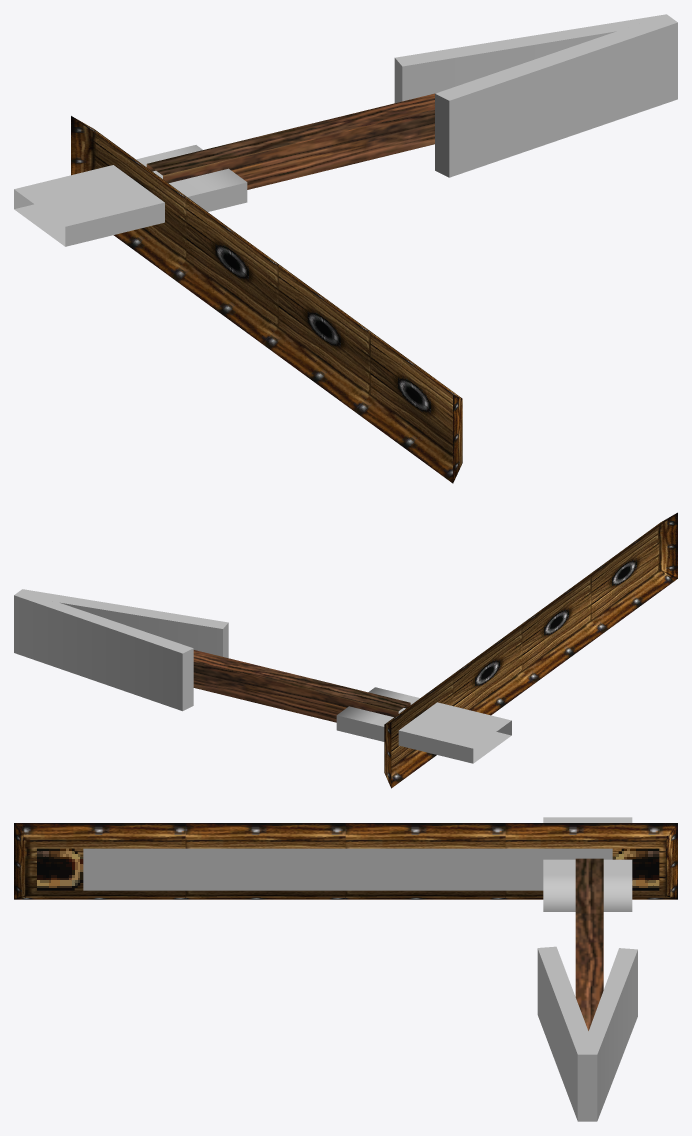
The model's file is INST_WH2_SLIDE_DAMAGE.obj.
The picture shows the model from 3 angles, top to bottom: view 1: azimuth 30°, elevation 25°; view 2: azimuth 150°, elevation 25°; view 3: azimuth 270°, elevation 25°; orthographic projection. The views are drawn at different scales.
Visible parts, largest first — view 1: Inst_Slider_, Wh2_Slider_Trim; view 2: Inst_Slider_, Wh2_Slider_Trim; view 3: Wh2_Slider_Trim, Inst_Slider_.
Part boxes in pixels (left/top/right/bottom): Inst_Slider_: left=14, top=14, right=677, bottom=246; Wh2_Slider_Trim: left=71, top=116, right=462, bottom=483; Inst_Slider_: left=14, top=589, right=511, bottom=763; Wh2_Slider_Trim: left=384, top=512, right=677, bottom=788; Wh2_Slider_Trim: left=14, top=823, right=677, bottom=899; Inst_Slider_: left=537, top=817, right=637, bottom=1121.
Bounding box in the file's own units: 405 × 54.82 × 424.
